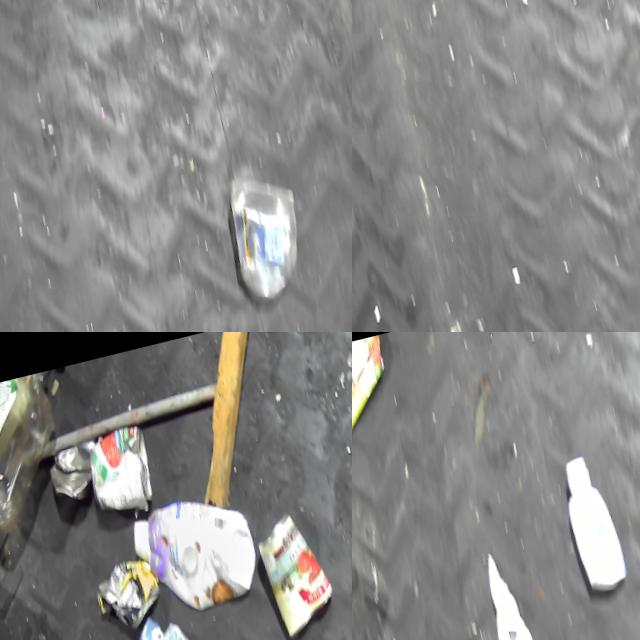can: (247, 501, 352, 640), (80, 422, 165, 524), (89, 552, 173, 639), (42, 436, 110, 510), (132, 604, 209, 640)
